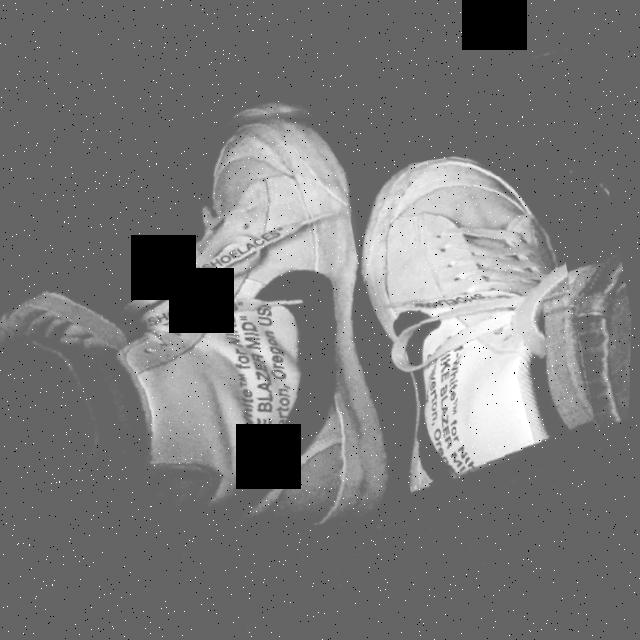shoe: (0, 68, 425, 581), (335, 127, 610, 492)
